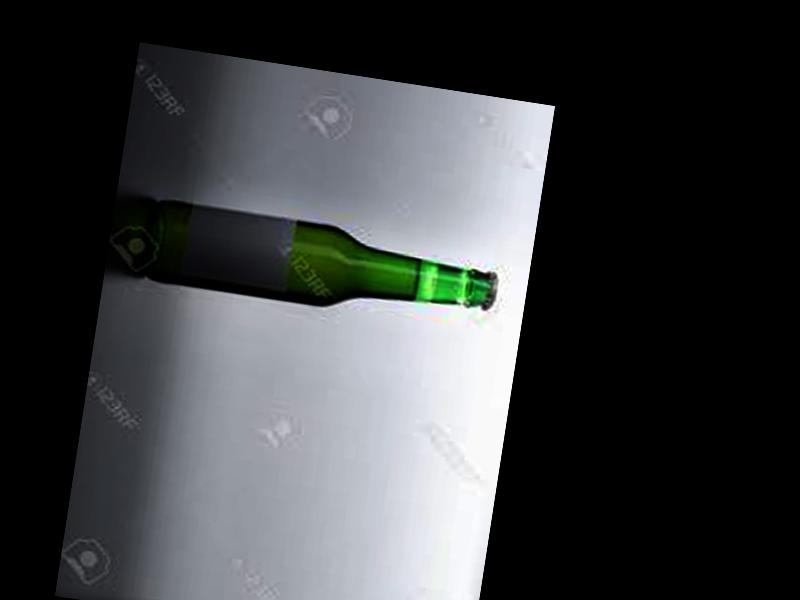Beer: (142, 197, 502, 332)
